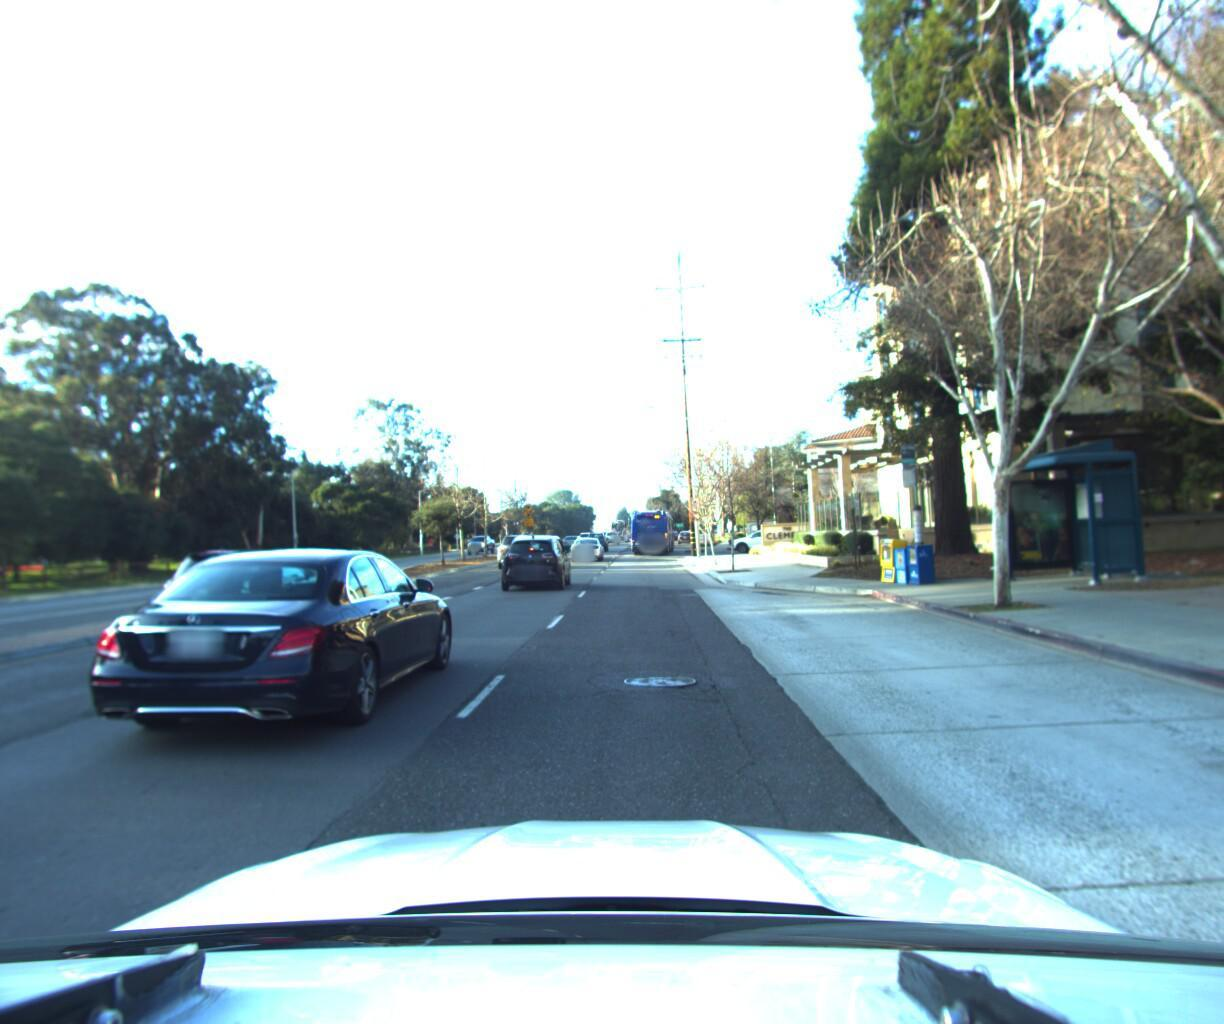bus: (628, 501, 674, 557)
car: (66, 540, 461, 767), (142, 538, 333, 644), (497, 530, 574, 594), (491, 531, 545, 569), (726, 523, 793, 551), (567, 529, 603, 560), (462, 534, 494, 555), (587, 527, 613, 547), (560, 533, 580, 550)
